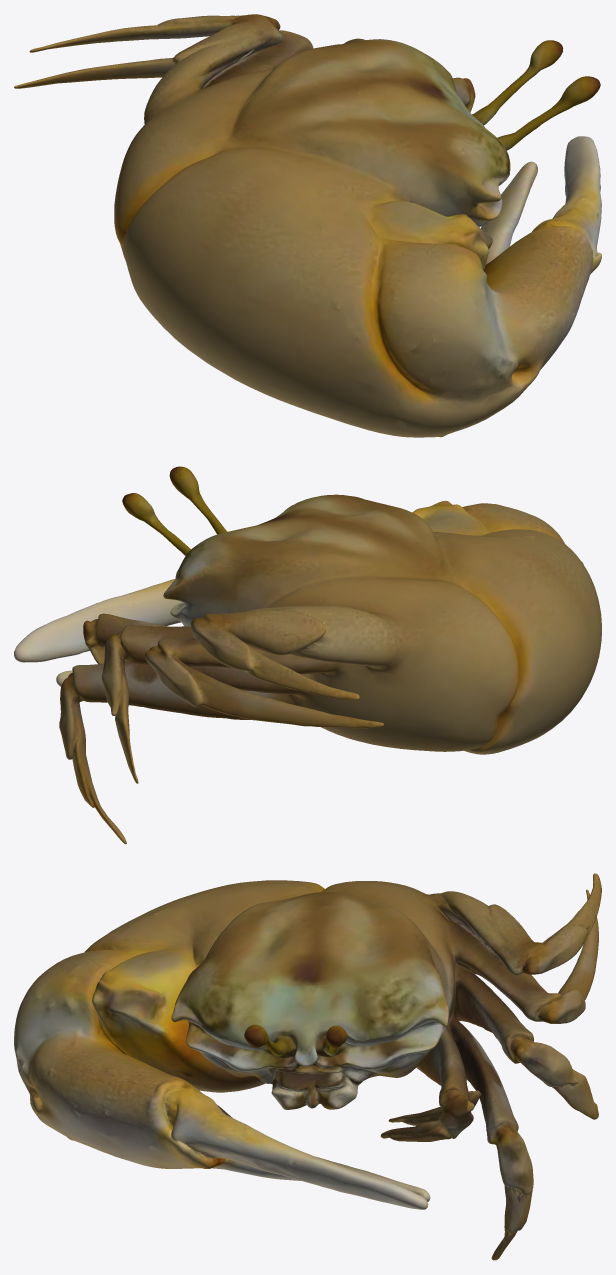
The model's file is sz-fiddler-crab.glb.
The picture shows the model from 3 angles, top to bottom: view 1: azimuth 30°, elevation 25°; view 2: azimuth 150°, elevation 25°; view 3: azimuth 270°, elevation 25°; orthographic projection. The views are drawn at different scales.
Visible parts, largest first — view 1: tripo_node_553a82a1-32ae-4eef-a8e6-737cd015d40f; view 2: tripo_node_553a82a1-32ae-4eef-a8e6-737cd015d40f; view 3: tripo_node_553a82a1-32ae-4eef-a8e6-737cd015d40f.
Part boxes in pixels (x1,y1,x2,y2): tripo_node_553a82a1-32ae-4eef-a8e6-737cd015d40f: [14, 14, 601, 437]; tripo_node_553a82a1-32ae-4eef-a8e6-737cd015d40f: [14, 466, 601, 844]; tripo_node_553a82a1-32ae-4eef-a8e6-737cd015d40f: [14, 873, 601, 1260].
Size of the model in its own units: 0.9296 by 0.5303 by 0.9999.
1 material, 1 textured.
